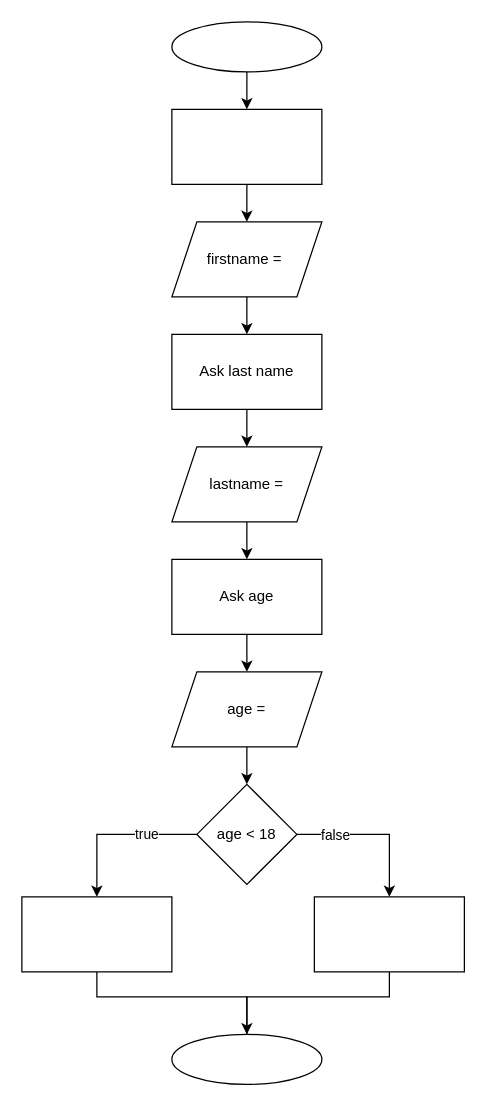
This 486x1106 diagram has some shape labels left out. The box of each missing label's shape, as (x1, y1, x2, y2) in pixels:
"It's a great time to start coding!": (313, 896, 464, 972)
"You're younger than 18, but it's never too early to start coding": (21, 896, 172, 972)
Ask name: (171, 108, 322, 184)
